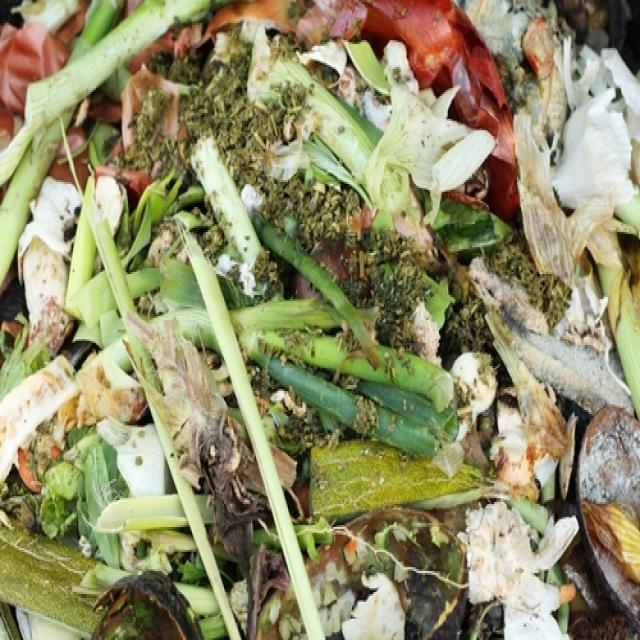food_waste: (34, 60, 618, 618)
